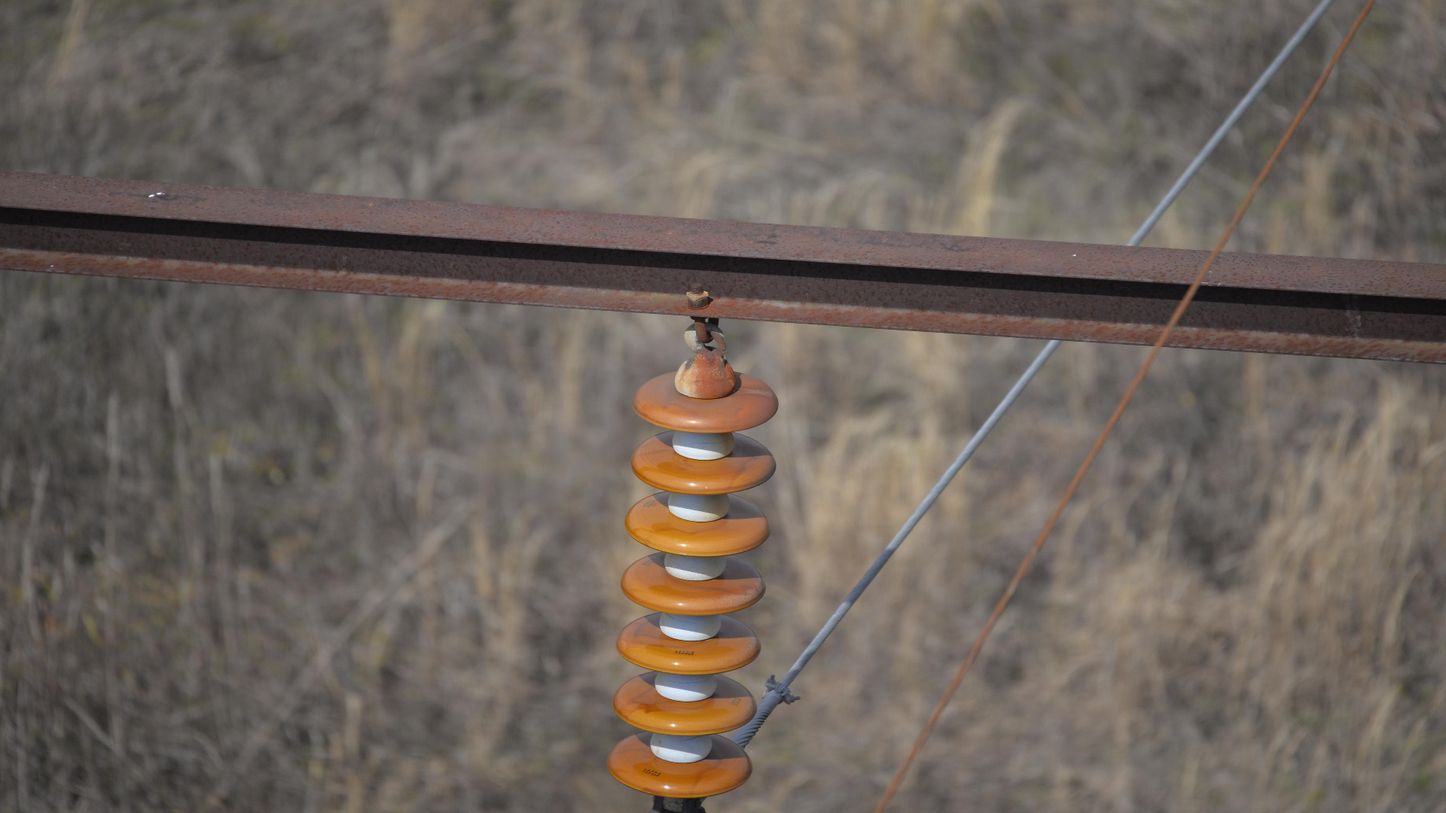insulator: (605, 364, 782, 800)
